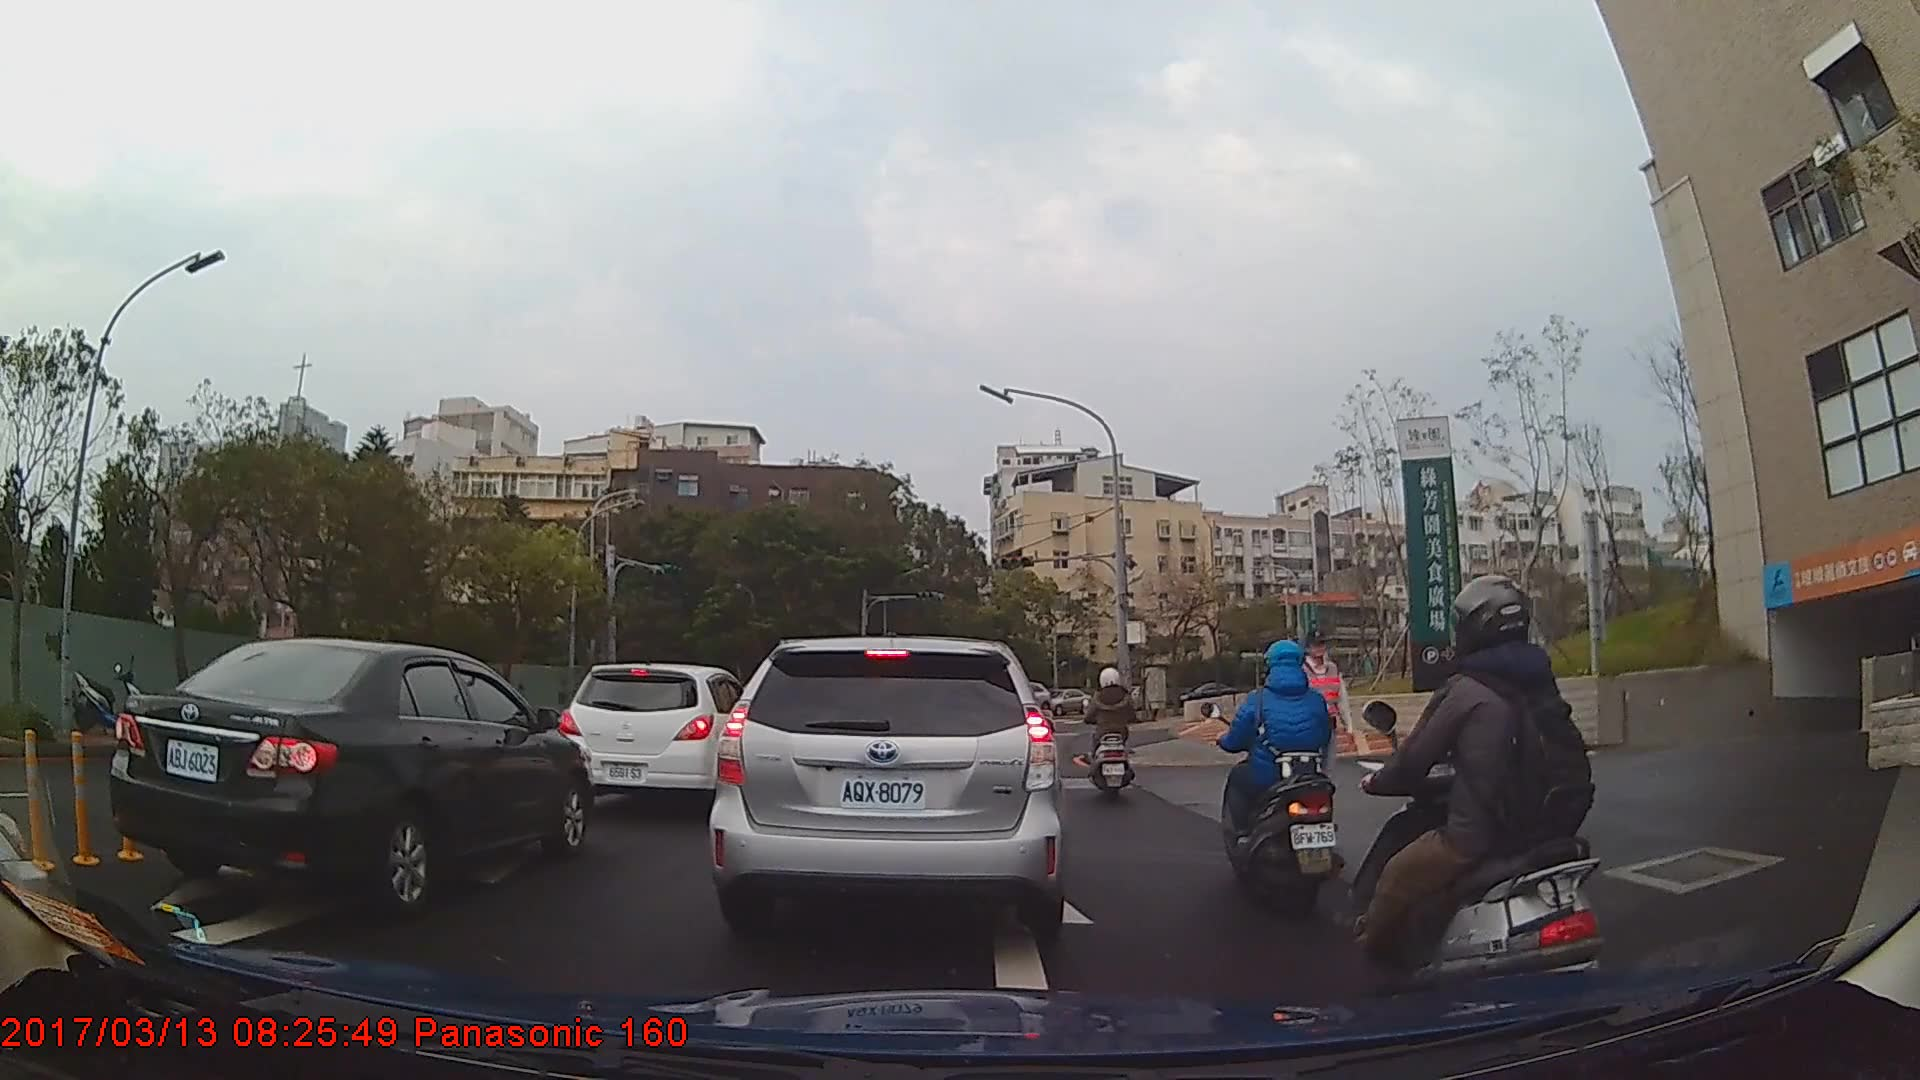pedestrian: (1278, 632, 1353, 842)
rider: (1342, 575, 1604, 1047), (1217, 637, 1344, 913), (1083, 669, 1141, 805)
vehicle: (106, 637, 594, 916), (707, 634, 1065, 941), (554, 662, 754, 817), (1174, 679, 1239, 712), (1048, 687, 1088, 716)
